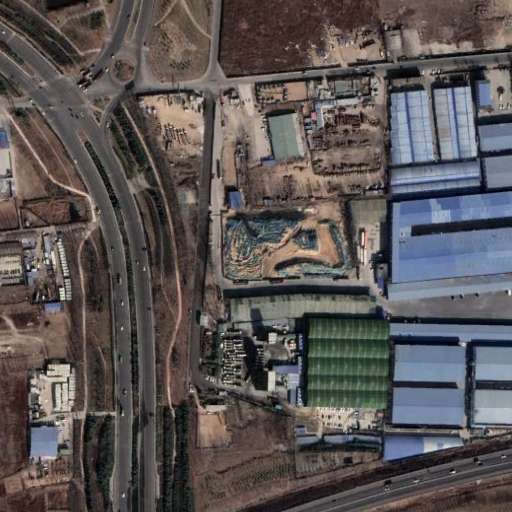cw: (221, 213, 354, 279)
